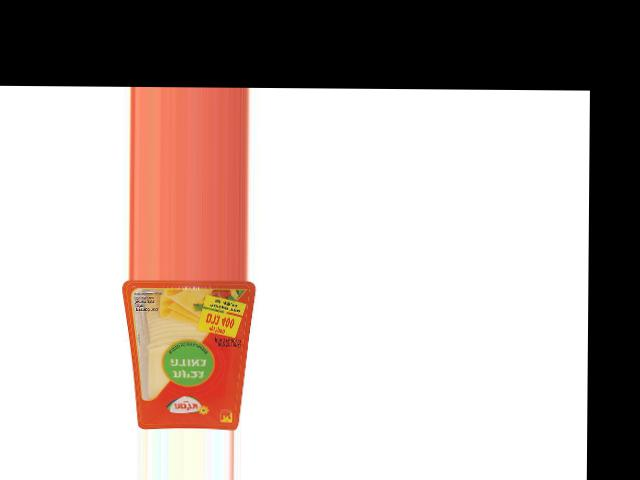cheese: (121, 279, 255, 429)
